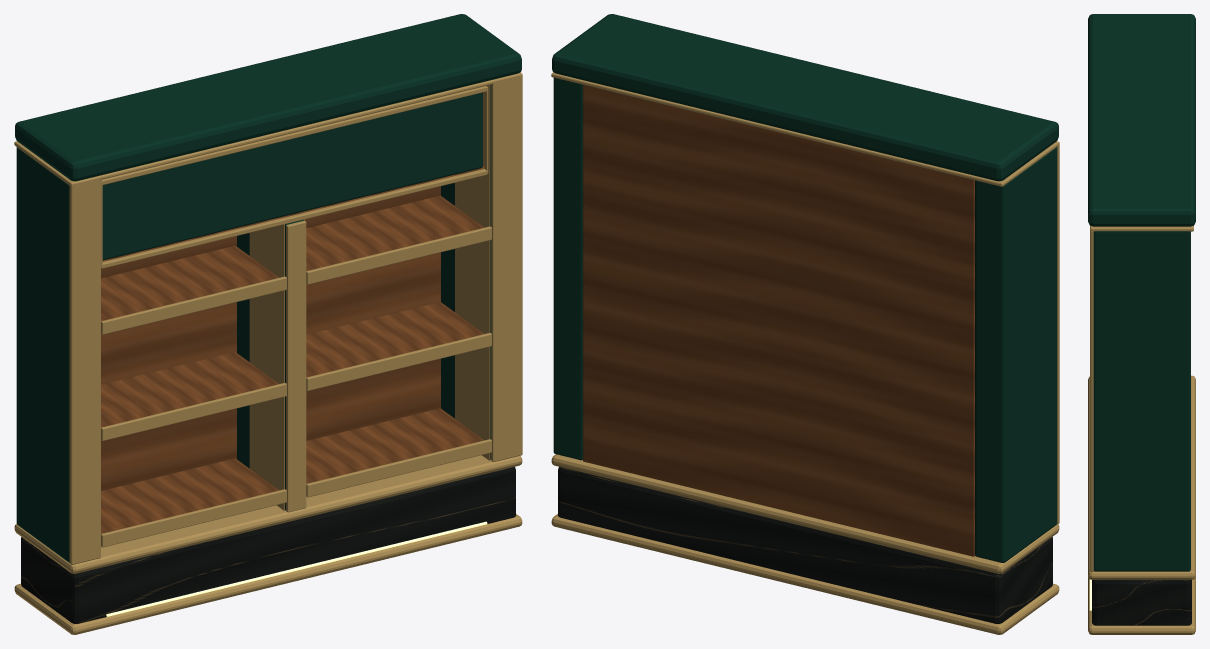
3 views of the same model, side by side, from view 1: azimuth 30°, elevation 25°; view 2: azimuth 150°, elevation 25°; view 3: azimuth 270°, elevation 25° (orthographic). The views are drawn at different scales.
Parts seen in each view (by area): view 1: cabinet_crown, cabinet_back, brand_header_panel, cabinet_stone_base, cabinet_left_pillar, trim_left_front, trim_right_front, trim_base_top, trim_right_inner, trim_middle_left_lining, shelf_1_right, shelf_2_right (+19 smaller); view 2: cabinet_back, cabinet_crown, cabinet_left_pillar, cabinet_stone_base, cabinet_right_pillar, trim_base_top, trim_base_plinth, trim_crown_lip, trim_left_front; view 3: cabinet_right_pillar, cabinet_crown, cabinet_stone_base, trim_base_top, trim_base_plinth, trim_right_front, trim_crown_lip.
Boxes of the visible parts, <box> form: cabinet_crown: <box>15,14,521,181</box>; cabinet_back: <box>101,186,440,490</box>; brand_header_panel: <box>102,92,482,260</box>; cabinet_stone_base: <box>21,467,515,623</box>; cabinet_left_pillar: <box>16,147,69,562</box>; trim_left_front: <box>69,179,100,564</box>; trim_right_front: <box>491,76,522,462</box>; trim_base_top: <box>14,455,522,573</box>; trim_right_inner: <box>455,85,490,460</box>; trim_middle_left_lining: <box>249,224,284,510</box>; shelf_1_right: <box>306,408,484,483</box>; shelf_2_right: <box>306,302,483,377</box>; cabinet_back: <box>583,85,975,556</box>; cabinet_crown: <box>552,14,1058,181</box>; cabinet_left_pillar: <box>975,147,1057,562</box>; cabinet_stone_base: <box>558,467,1052,623</box>; cabinet_right_pillar: <box>553,77,582,460</box>; trim_base_top: <box>551,454,1059,573</box>; trim_base_plinth: <box>551,514,1059,634</box>; trim_crown_lip: <box>551,72,1059,186</box>; trim_left_front: <box>1057,145,1059,524</box>; cabinet_right_pillar: <box>1093,231,1190,571</box>; cabinet_crown: <box>1088,14,1195,226</box>; cabinet_stone_base: <box>1092,580,1191,625</box>; trim_base_top: <box>1088,375,1195,579</box>; trim_base_plinth: <box>1088,576,1195,634</box>; trim_right_front: <box>1090,231,1093,572</box>; trim_crown_lip: <box>1090,225,1193,231</box>.
Size of the model in its own units: 2.4 by 2.4 by 0.55.
5 materials, 2 textured.
